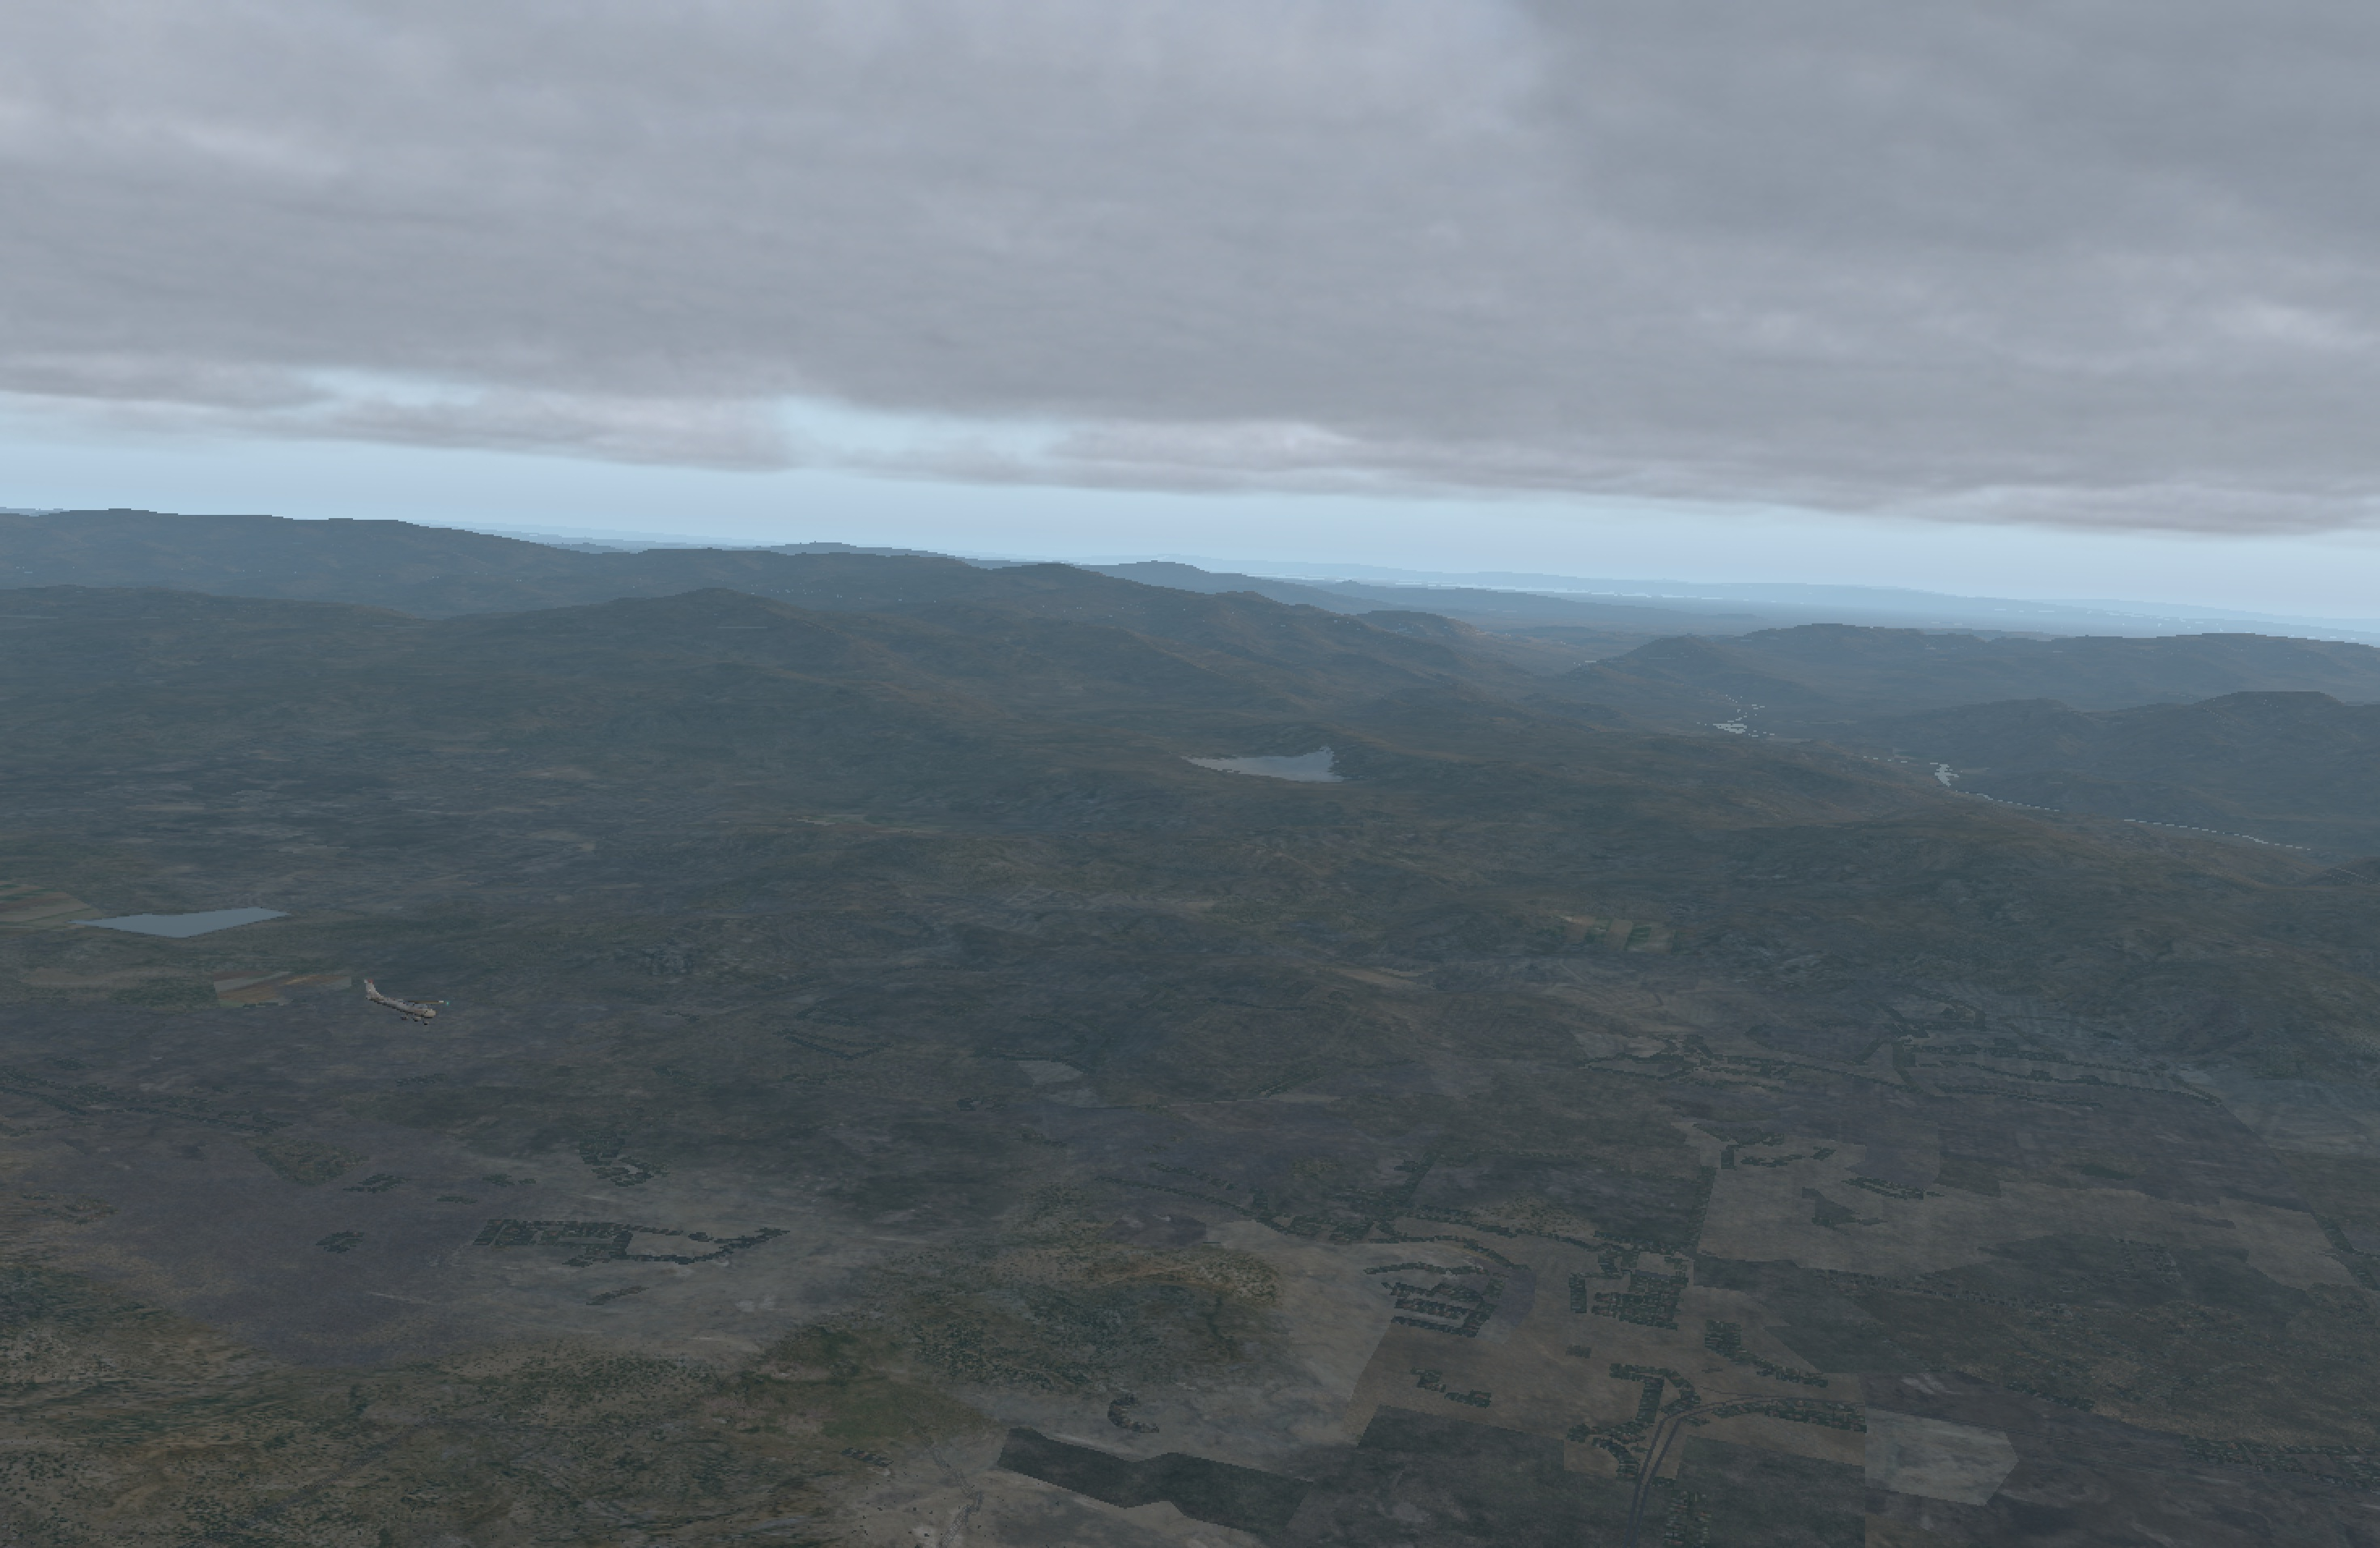aircraft: (380, 994, 453, 1022)
